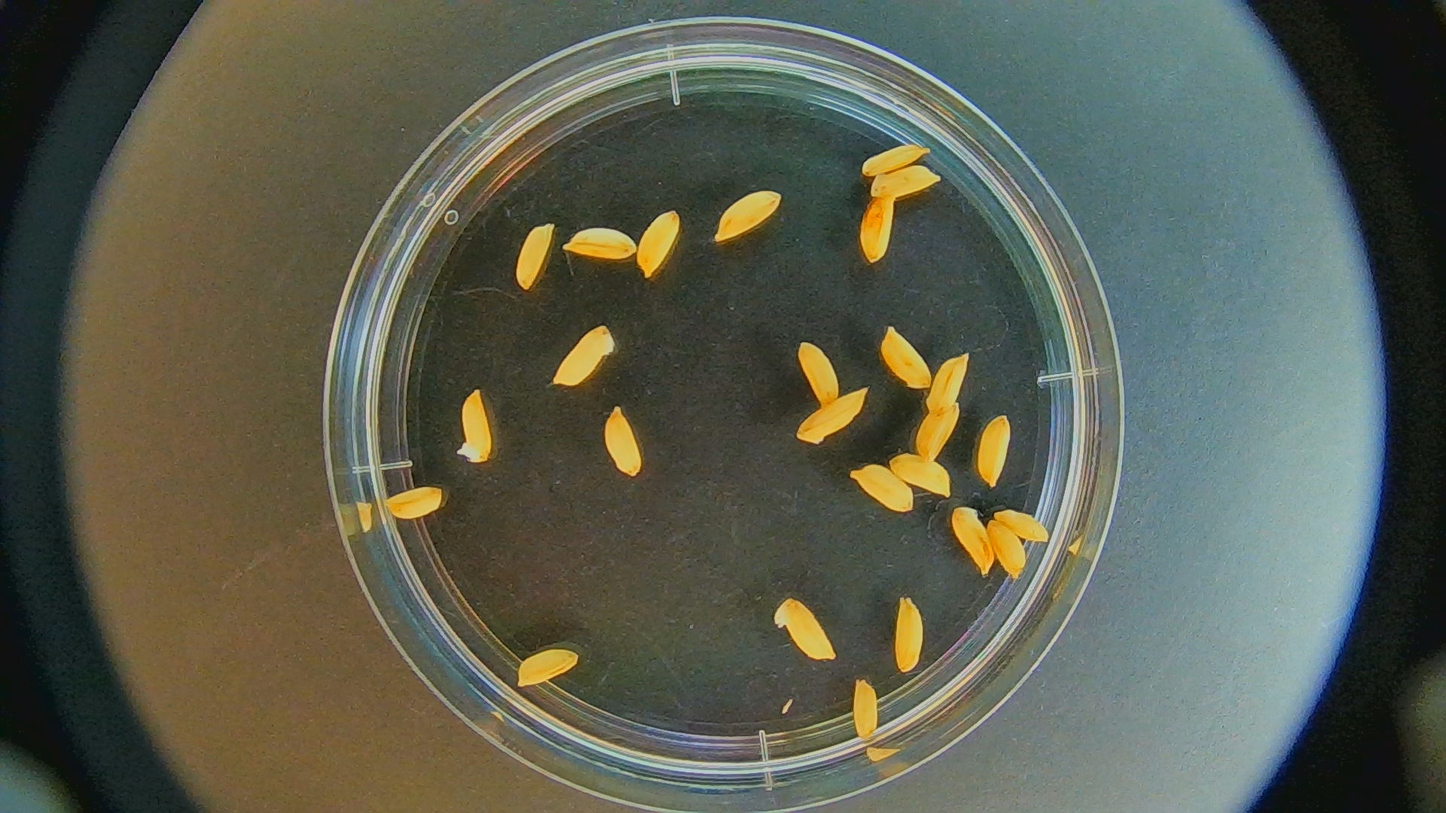no: (796, 388, 869, 446), (550, 322, 612, 390), (775, 596, 836, 660), (602, 403, 648, 480), (950, 501, 996, 578), (714, 192, 783, 242), (880, 324, 933, 389), (635, 204, 681, 276), (856, 464, 914, 517), (514, 220, 557, 290), (857, 197, 901, 263), (987, 516, 1030, 583), (913, 400, 960, 461), (976, 413, 1014, 486), (563, 227, 638, 263), (890, 451, 950, 496), (459, 388, 493, 466), (892, 598, 926, 676), (872, 166, 945, 202), (927, 355, 969, 416), (799, 339, 837, 405), (518, 647, 577, 688), (851, 674, 883, 749), (857, 142, 923, 177), (383, 488, 443, 521), (993, 508, 1051, 542)
